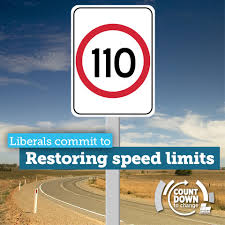Speed_limit_110km: (75, 24, 150, 98)
